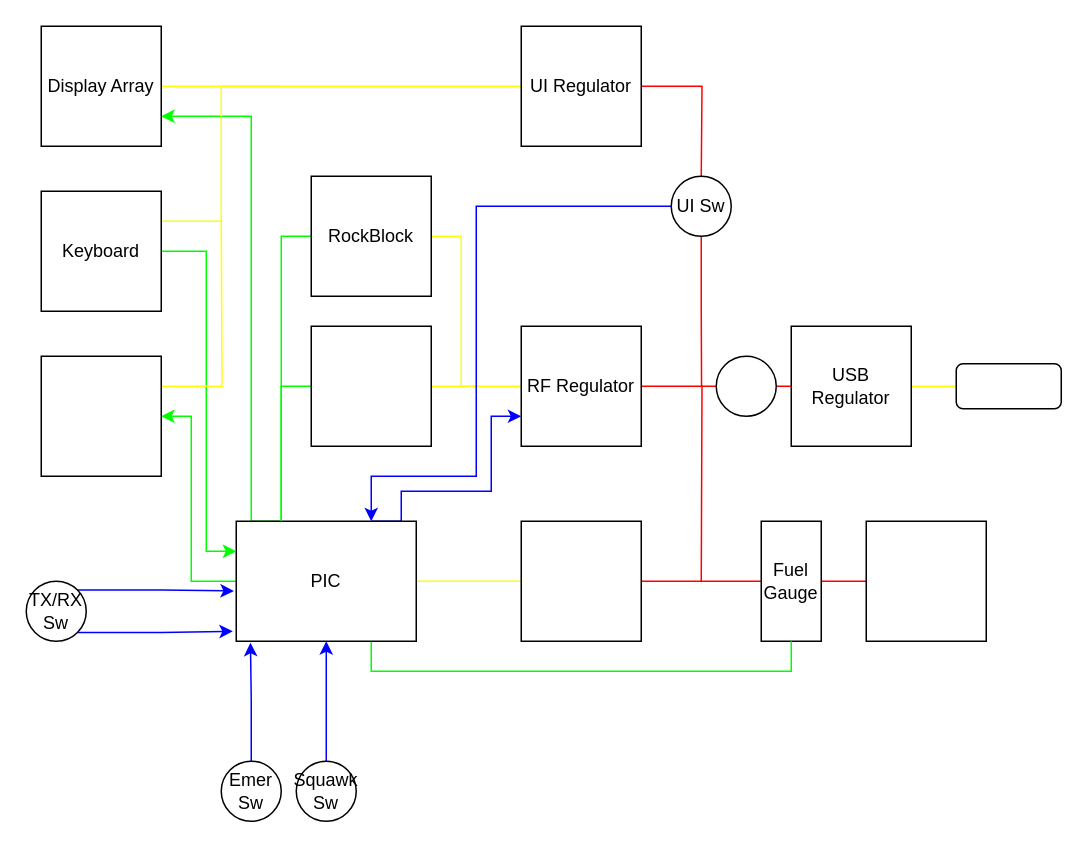
The diagram is 1088 pixels wide and 848 high, and some of its shapes have lost their labels. The shapes that lost their labels are listed below. From the top down, each one's centre as x and y in pixels, then its label:
(370,385): GPS
(745,385): USB Sw
(1008,385): USB Port
(100,415): Batt Indicator
(580,580): Core Regulator (5V?)
(925,580): Battery
